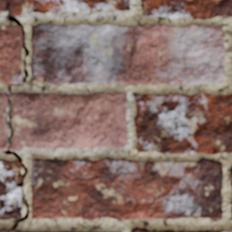brick: (32, 158, 222, 219), (32, 24, 224, 84), (135, 93, 231, 153), (142, 0, 231, 18), (0, 160, 22, 219), (0, 26, 22, 82), (132, 228, 150, 231), (198, 230, 231, 231)
broken_brick: (11, 92, 127, 151), (0, 0, 130, 16), (0, 92, 6, 153), (0, 228, 101, 231)
crack: (0, 2, 39, 229), (59, 0, 63, 5)
